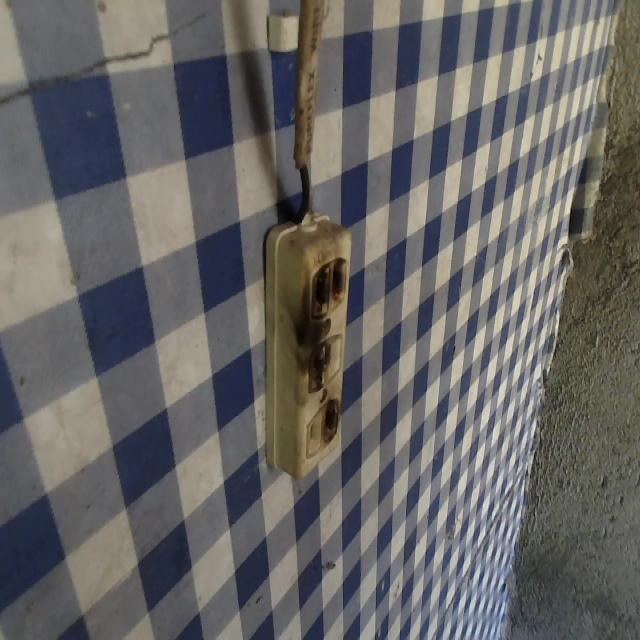-: (309, 255, 347, 316), (306, 335, 330, 393), (320, 392, 341, 444)
